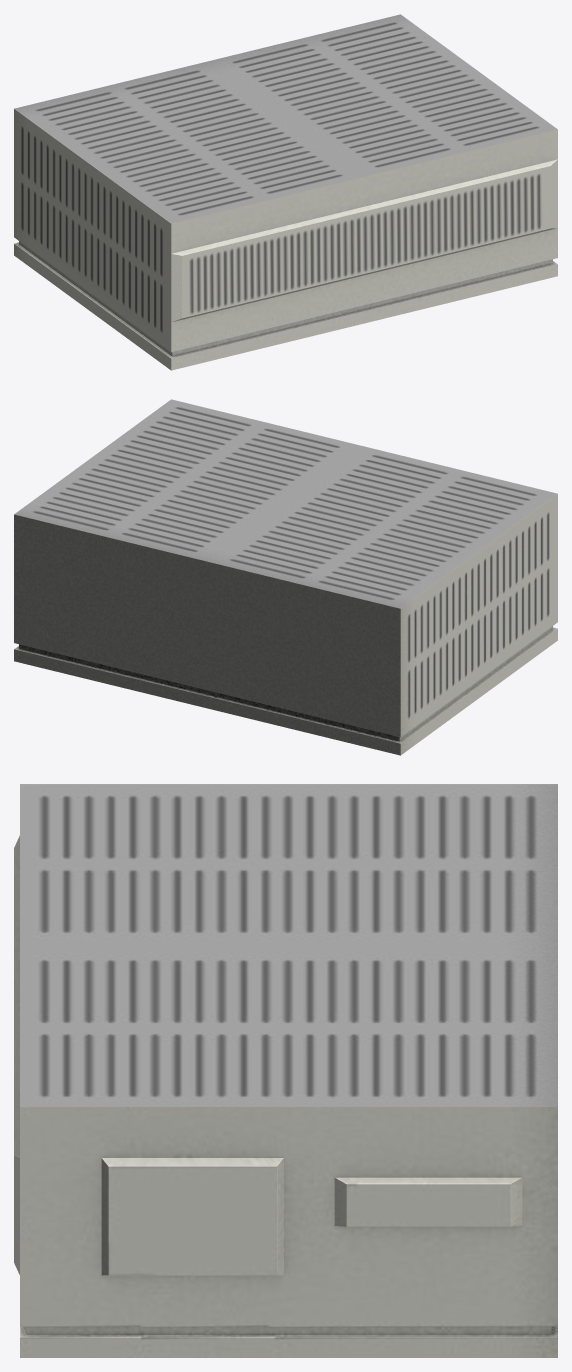
File: air-conditioning-baked.glb
3 renders of one model, top to bottom at view 1: azimuth 30°, elevation 25°; view 2: azimuth 150°, elevation 25°; view 3: azimuth 270°, elevation 25°, orthographic. The views are drawn at different scales.
Visible parts, largest first — view 1: external-unit; view 2: external-unit; view 3: external-unit.
Boxes of the visible parts, box(x1,y1,x2,y2) form: external-unit: box(14, 14, 557, 370); external-unit: box(14, 399, 557, 755); external-unit: box(14, 784, 557, 1357).
Bounding box in the file's own units: 7.71 × 2.85 × 5.42.
Materials: 1 (1 with a texture image).
